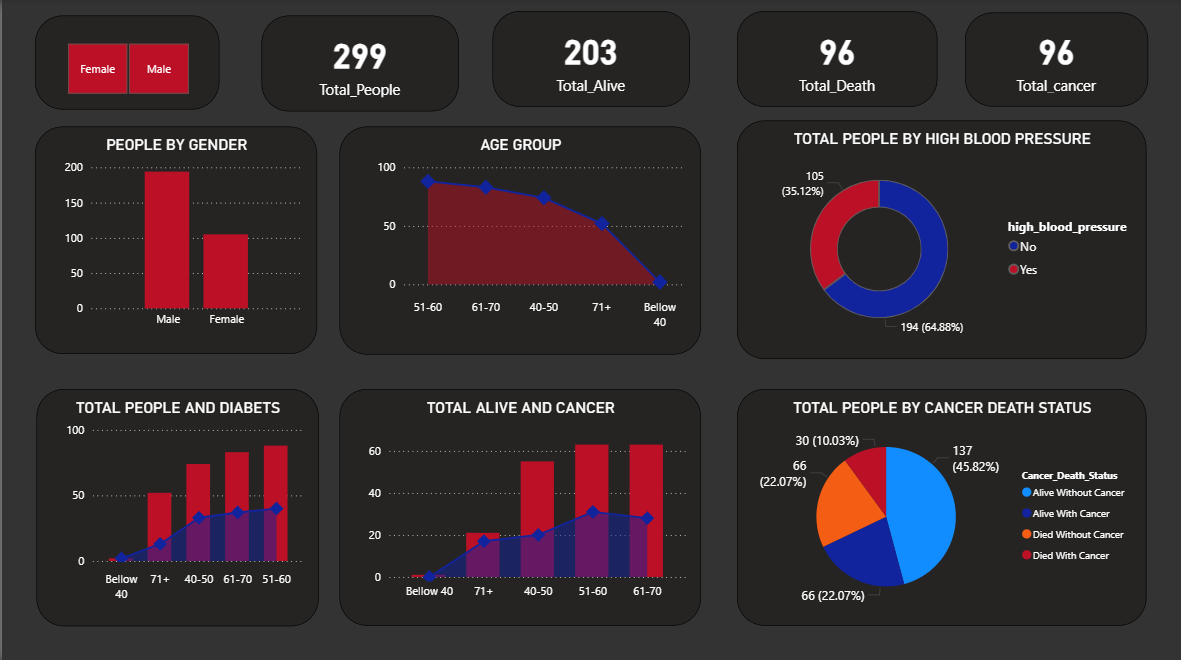

Layout of this report page (visuals, bound fields, positions):
{"tool":"powerbi","page":{"name":"CLINICAL DATA ANALYSIS","canvas":[1280,720],"ordinal":0},"visuals":[{"type":"card","fields":{"Values":["heart_Disease_clinical_records_.Total_cancer"]},"box":[1043.8,15.4,198.4,102.1],"z":0},{"type":"card","fields":{"Values":["heart_Disease_clinical_records_.Total_Alive"]},"box":[531.5,13.5,213.8,104],"z":1000},{"type":"card","fields":{"Values":["heart_Disease_clinical_records_.Total_Death"]},"box":[797.3,13.5,217.6,104],"z":2000},{"type":"lineChart","title":"AGE GROUP","fields":{"Category":["heart_Disease_clinical_records_.Age_Group"],"Y":["heart_Disease_clinical_records_.Total_People"]},"box":[366,138.3,392,247.2],"z":3000},{"type":"lineClusteredColumnComboChart","title":"TOTAL ALIVE AND CANCER","fields":{"Category":["heart_Disease_clinical_records_.Age_Group"],"Y":["heart_Disease_clinical_records_.Total_Alive"],"Y2":["Sum(heart_Disease_clinical_records_.cancer)"]},"box":[366,422.9,392,257],"z":4000},{"type":"card","fields":{"Values":["heart_Disease_clinical_records_.Total_People"]},"box":[281.2,17.3,213.8,104],"z":5000},{"type":"donutChart","title":"TOTAL PEOPLE BY HIGH BLOOD PRESSURE","fields":{"Y":["heart_Disease_clinical_records_.Total_People"],"Category":["heart_Disease_clinical_records_.high_blood_pressure"]},"box":[797,131.8,444,258.6],"z":6000},{"type":"pieChart","title":"TOTAL PEOPLE BY CANCER DEATH STATUS","fields":{"Category":["heart_Disease_clinical_records_.Cancer_Death_Status"],"Y":["heart_Disease_clinical_records_.Total_People"]},"box":[797,422.9,444,257],"z":7000},{"type":"columnChart","title":"PEOPLE BY GENDER","fields":{"Y":["heart_Disease_clinical_records_.Total_People"],"Category":["heart_Disease_clinical_records_.Gender"]},"box":[36.6,138.7,306.2,246.5],"z":8000},{"type":"slicer","fields":{"Values":["heart_Disease_clinical_records_.Gender"]},"box":[36.6,17.3,200.3,102.1],"z":9000},{"type":"lineStackedColumnComboChart","title":"TOTAL PEOPLE AND DIABETS","fields":{"Category":["heart_Disease_clinical_records_.Age_Group"],"Y":["heart_Disease_clinical_records_.Total_People"],"Y2":["heart_Disease_clinical_records_.Total_Diabets"]},"box":[37,423,306,257],"z":10000}]}

Visuals, with their boxes in screenshot pixels (x1, y1, x2, y2), scaled from the page's 1280x720 canvas onto the 1181x660 screenshot:
card - heart_Disease_clinical_records_.Total_cancer: BBox(963, 14, 1146, 108)
card - heart_Disease_clinical_records_.Total_Alive: BBox(490, 12, 688, 108)
card - heart_Disease_clinical_records_.Total_Death: BBox(736, 12, 936, 108)
"AGE GROUP" lineChart: BBox(338, 127, 699, 353)
"TOTAL ALIVE AND CANCER" lineClusteredColumnComboChart: BBox(338, 388, 699, 623)
card - heart_Disease_clinical_records_.Total_People: BBox(259, 16, 457, 111)
"TOTAL PEOPLE BY HIGH BLOOD PRESSURE" donutChart: BBox(735, 121, 1145, 358)
"TOTAL PEOPLE BY CANCER DEATH STATUS" pieChart: BBox(735, 388, 1145, 623)
"PEOPLE BY GENDER" columnChart: BBox(34, 127, 316, 353)
slicer - heart_Disease_clinical_records_.Gender: BBox(34, 16, 219, 109)
"TOTAL PEOPLE AND DIABETS" lineStackedColumnComboChart: BBox(34, 388, 316, 623)
